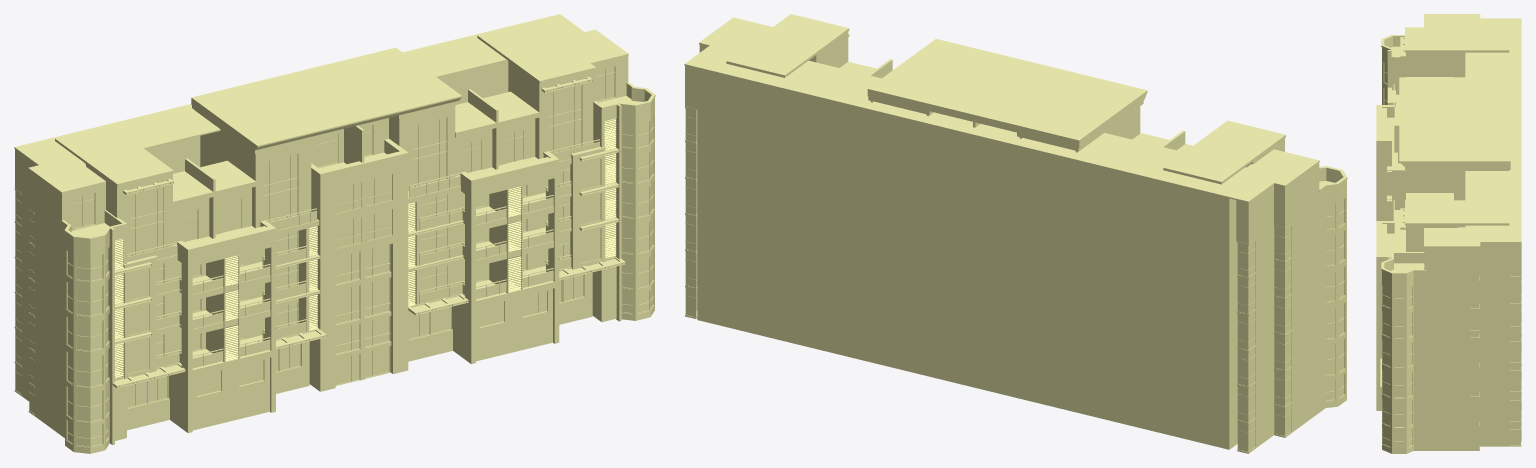
File: MangaKa Props - M_R_City_Building_18.glb
The picture shows the model from 3 angles, left to right: view 1: azimuth 30°, elevation 25°; view 2: azimuth 150°, elevation 25°; view 3: azimuth 270°, elevation 25°; orthographic projection. The views are drawn at different scales.
Parts seen in each view (by area): view 1: M_R_City_Building_18_blueScreen, M_R_City_Building_18_Glass_blueScreen, M_R_City_Building_18_WindowsFrame_blueScreen, M_R_City_Building_18_Rail_blueScreen; view 2: M_R_City_Building_18_blueScreen, M_R_City_Building_18_Glass_blueScreen, M_R_City_Building_18_WindowsFrame_blueScreen; view 3: M_R_City_Building_18_blueScreen, M_R_City_Building_18_Glass_blueScreen, M_R_City_Building_18_WindowsFrame_blueScreen.
Boxes of the visible parts, left/top/right/bottom form: M_R_City_Building_18_blueScreen: left=14, top=14, right=655, bottom=453; M_R_City_Building_18_Glass_blueScreen: left=15, top=66, right=653, bottom=446; M_R_City_Building_18_WindowsFrame_blueScreen: left=15, top=66, right=653, bottom=447; M_R_City_Building_18_Rail_blueScreen: left=127, top=139, right=599, bottom=365; M_R_City_Building_18_blueScreen: left=684, top=14, right=1347, bottom=453; M_R_City_Building_18_Glass_blueScreen: left=685, top=56, right=1344, bottom=451; M_R_City_Building_18_WindowsFrame_blueScreen: left=685, top=108, right=1345, bottom=452; M_R_City_Building_18_blueScreen: left=1376, top=14, right=1521, bottom=453; M_R_City_Building_18_Glass_blueScreen: left=1383, top=39, right=1520, bottom=449; M_R_City_Building_18_WindowsFrame_blueScreen: left=1382, top=62, right=1521, bottom=449.
Bounding box in the file's own units: 13.68 × 5.78 × 3.52.
